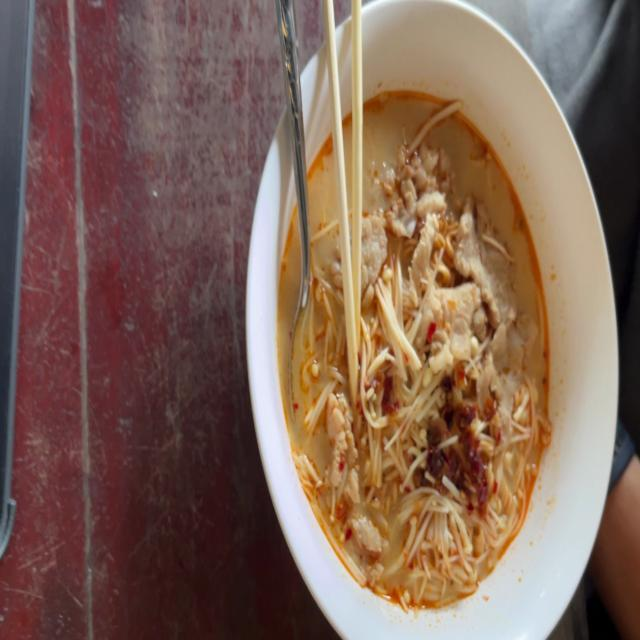noodle: (275, 86, 558, 613)
